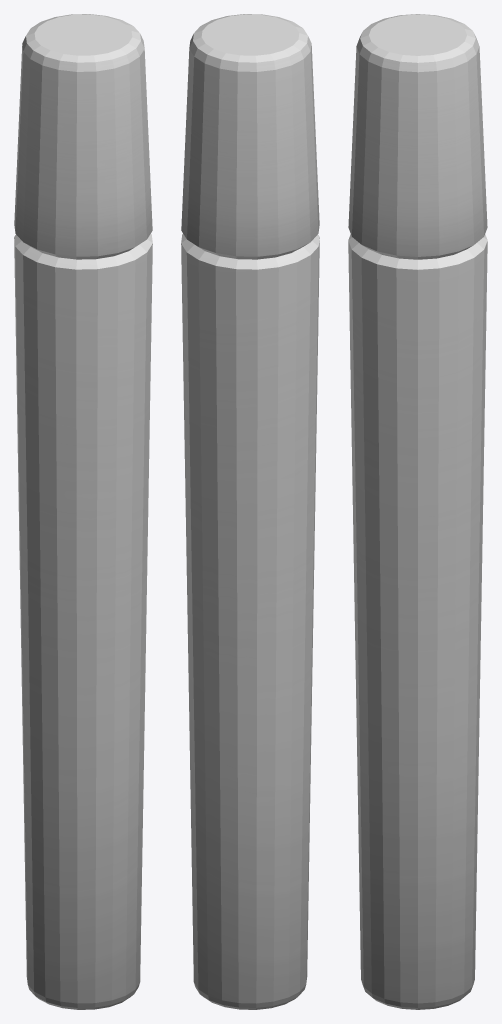
The model's file is Wand.fbx.
3 renders of one model, left to right at view 1: azimuth 30°, elevation 25°; view 2: azimuth 150°, elevation 25°; view 3: azimuth 270°, elevation 25°, orthographic.
Visible parts, largest first — view 1: Wand; view 2: Wand; view 3: Wand.
Part boxes in pixels (x1,y1,x2,y2): Wand: (14,14,152,1009); Wand: (181,14,319,1009); Wand: (348,14,487,1009).
Bounding box in the file's own units: 2 × 15.12 × 2.
Materials: 2 (2 with a texture image).
